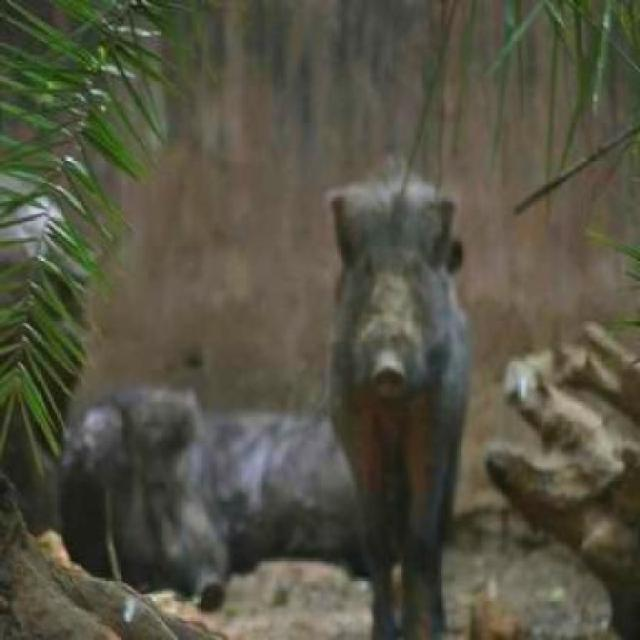Boar: (286, 155, 483, 612)
